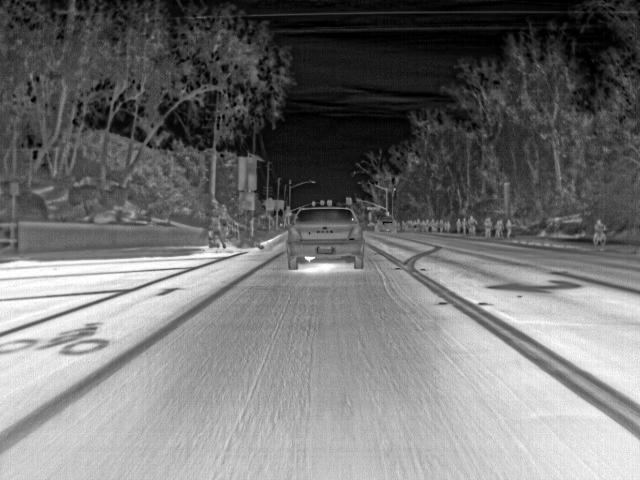car: (287, 205, 364, 272), (376, 216, 395, 230)
person: (218, 200, 230, 248), (208, 199, 222, 238), (484, 216, 493, 238), (495, 219, 503, 239), (594, 220, 607, 232), (506, 218, 514, 237), (455, 218, 463, 234), (469, 216, 476, 234), (461, 218, 467, 232), (430, 218, 436, 232), (439, 218, 445, 232), (445, 220, 451, 232)
